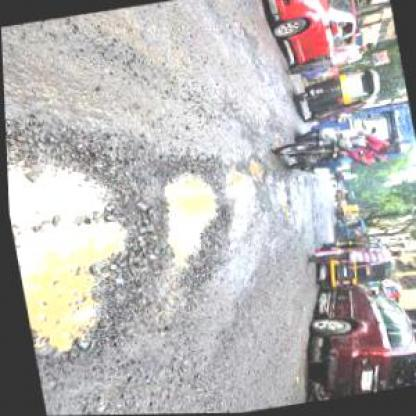pothole: (4, 107, 172, 374), (154, 153, 240, 280), (223, 168, 255, 201), (269, 179, 294, 215), (242, 156, 271, 184)
